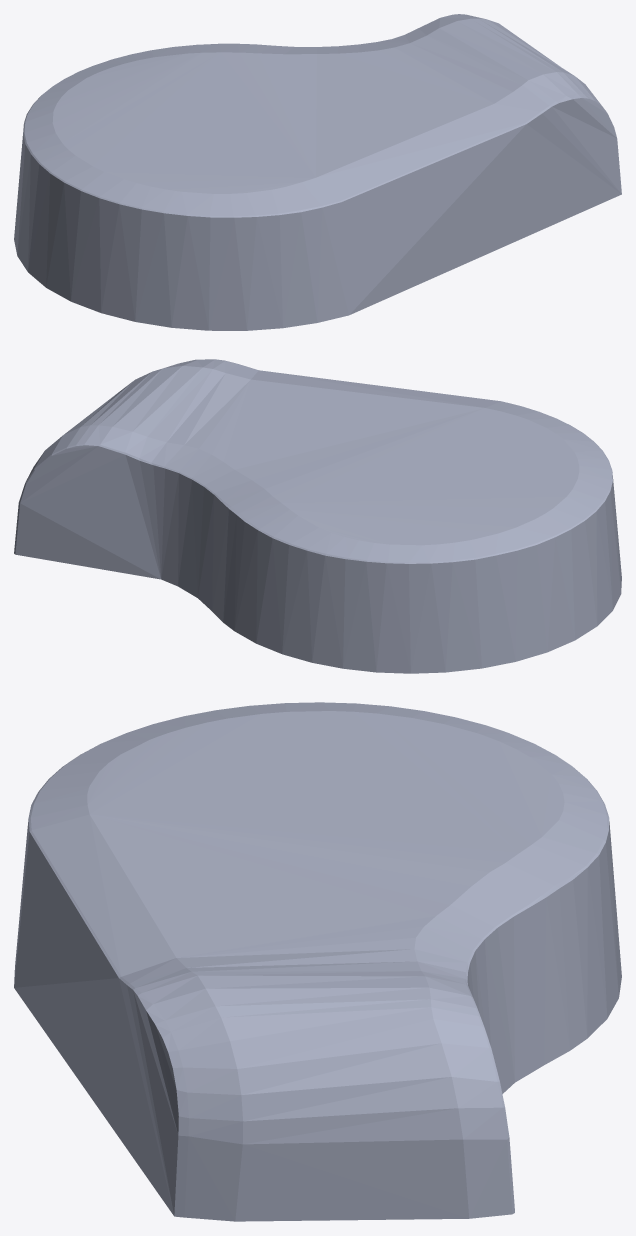
File: shank_l.obj
3 views of the same model, one above another, from view 1: azimuth 30°, elevation 25°; view 2: azimuth 150°, elevation 25°; view 3: azimuth 270°, elevation 25° (orthographic). The views are drawn at different scales.
Parts seen in each view (by area): view 1: AM3_Leg_001-mesh; view 2: AM3_Leg_001-mesh; view 3: AM3_Leg_001-mesh.
Boxes of the visible parts, x1=… form: AM3_Leg_001-mesh: x1=14, y1=14, x2=621, y2=330; AM3_Leg_001-mesh: x1=14, y1=359, x2=621, y2=673; AM3_Leg_001-mesh: x1=14, y1=702, x2=621, y2=1221.
Bounding box in the file's own units: 0.2038 × 0.0469 × 0.1418.
